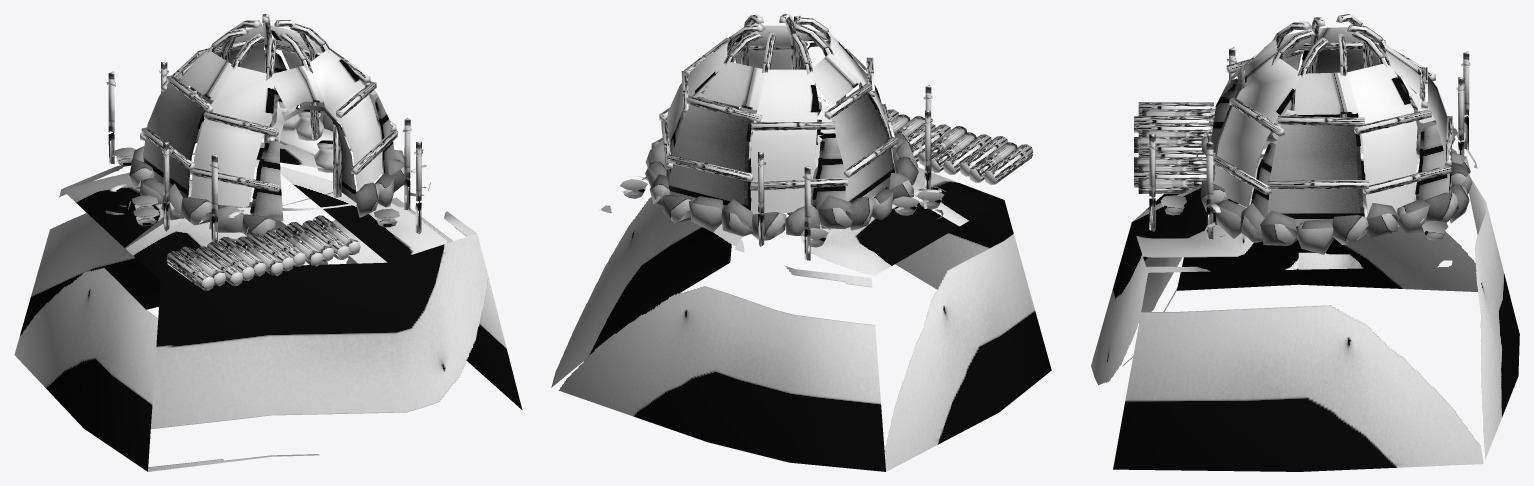
File: dock.dae
3 renders of one model, left to right at view 1: azimuth 30°, elevation 25°; view 2: azimuth 150°, elevation 25°; view 3: azimuth 270°, elevation 25°, orthographic. The views are drawn at different scales.
Parts seen in each view (by area): view 1: dock; view 2: dock; view 3: dock.
Part boxes in pixels (x1=…): dock: x1=14, y1=14, x2=522, y2=471; dock: x1=551, y1=14, x2=1051, y2=471; dock: x1=1091, y1=14, x2=1519, y2=471.
Size of the model in its own units: 18.6 by 18.53 by 16.98.
